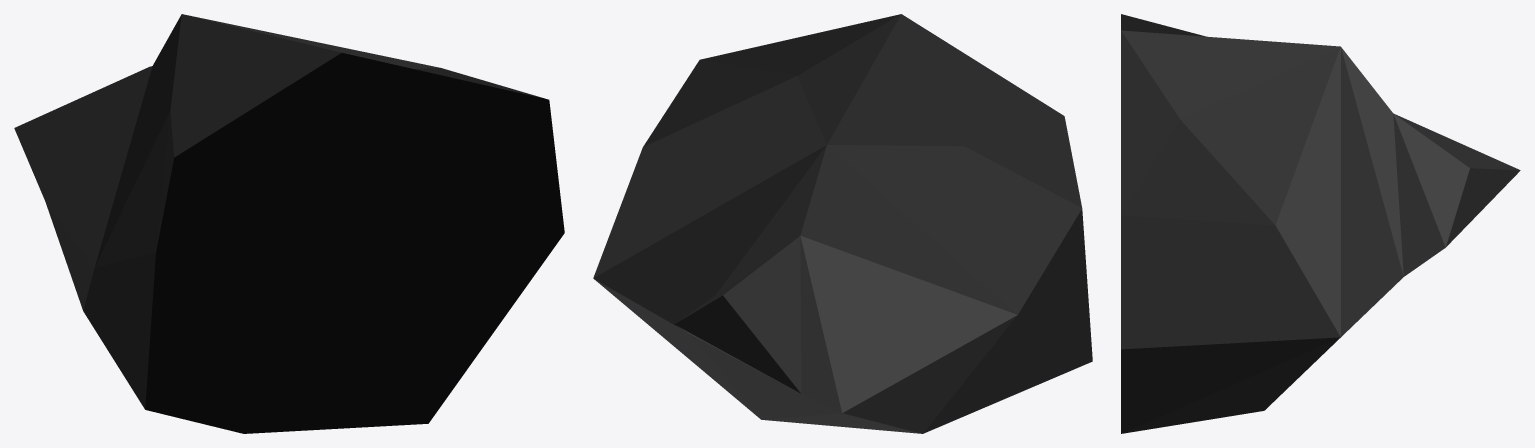
The model's file is rock_1.fbx.
3 views of the same model, side by side, from view 1: azimuth 30°, elevation 25°; view 2: azimuth 150°, elevation 25°; view 3: azimuth 270°, elevation 25° (orthographic). The views are drawn at different scales.
Parts seen in each view (by area): view 1: rock_1; view 2: rock_1; view 3: rock_1.
Boxes of the visible parts, x1,y1,x2,y2 form: rock_1: [14, 14, 564, 433]; rock_1: [593, 14, 1092, 433]; rock_1: [1121, 14, 1520, 433].
Bounding box in the file's own units: 46.21 × 41.28 × 41.06.
